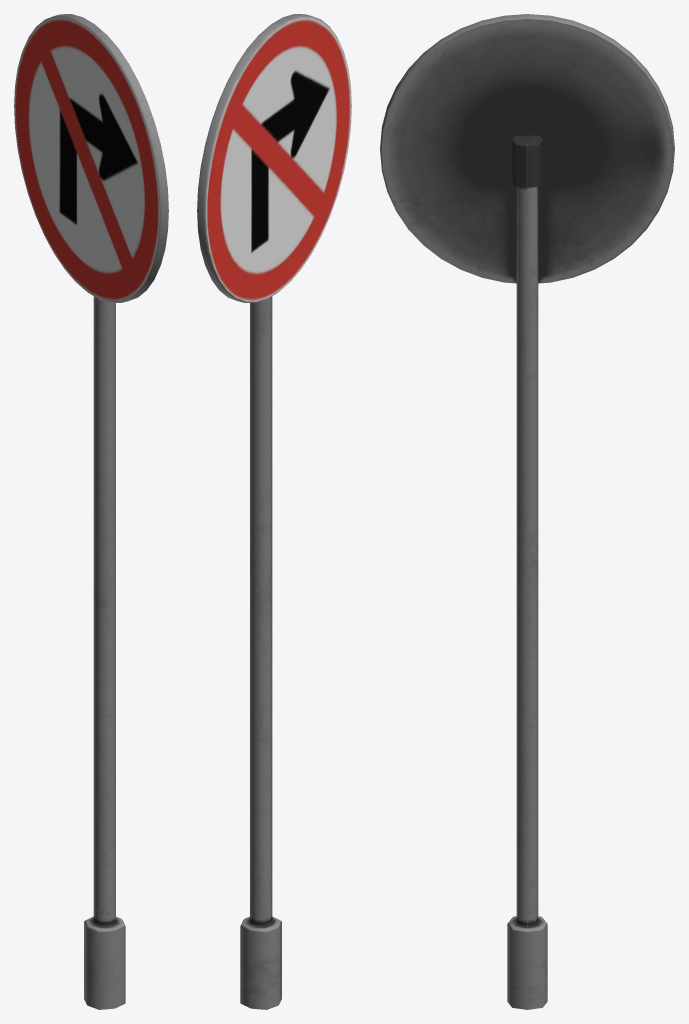
The model's file is SM_Sign2.fbx.
The picture shows the model from 3 angles, left to right: view 1: azimuth 30°, elevation 25°; view 2: azimuth 150°, elevation 25°; view 3: azimuth 270°, elevation 25°; orthographic projection.
Visible parts, largest first — view 1: SM_Sign2_LOD0; view 2: SM_Sign2_LOD0; view 3: SM_Sign2_LOD0.
Boxes of the visible parts, <box> form: SM_Sign2_LOD0: <box>14,14,168,1009</box>; SM_Sign2_LOD0: <box>197,14,351,1009</box>; SM_Sign2_LOD0: <box>380,14,674,1009</box>.
Size of the model in its own units: 11.13 by 80.61 by 295.
Materials: 1 (1 with a texture image).
